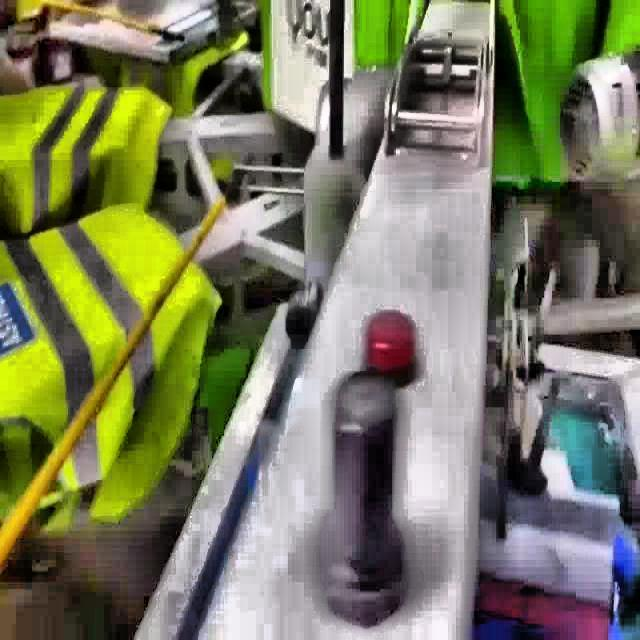safety_jacket: (0, 205, 226, 524), (0, 78, 172, 237)
